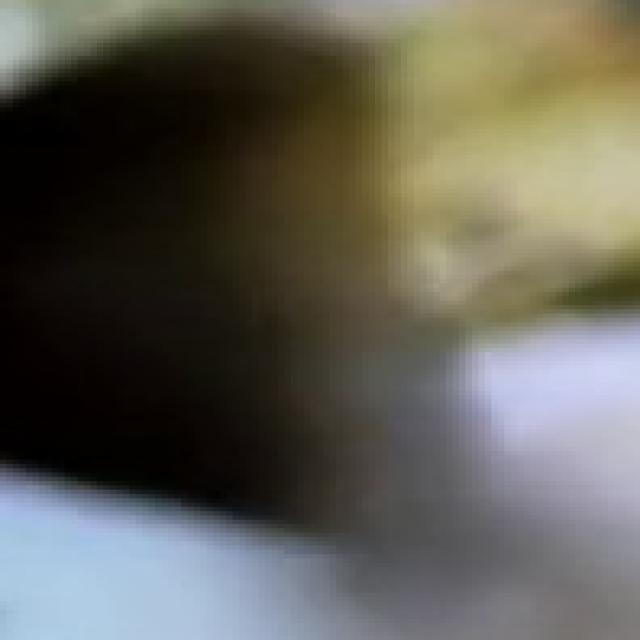fish: (0, 0, 634, 636)
